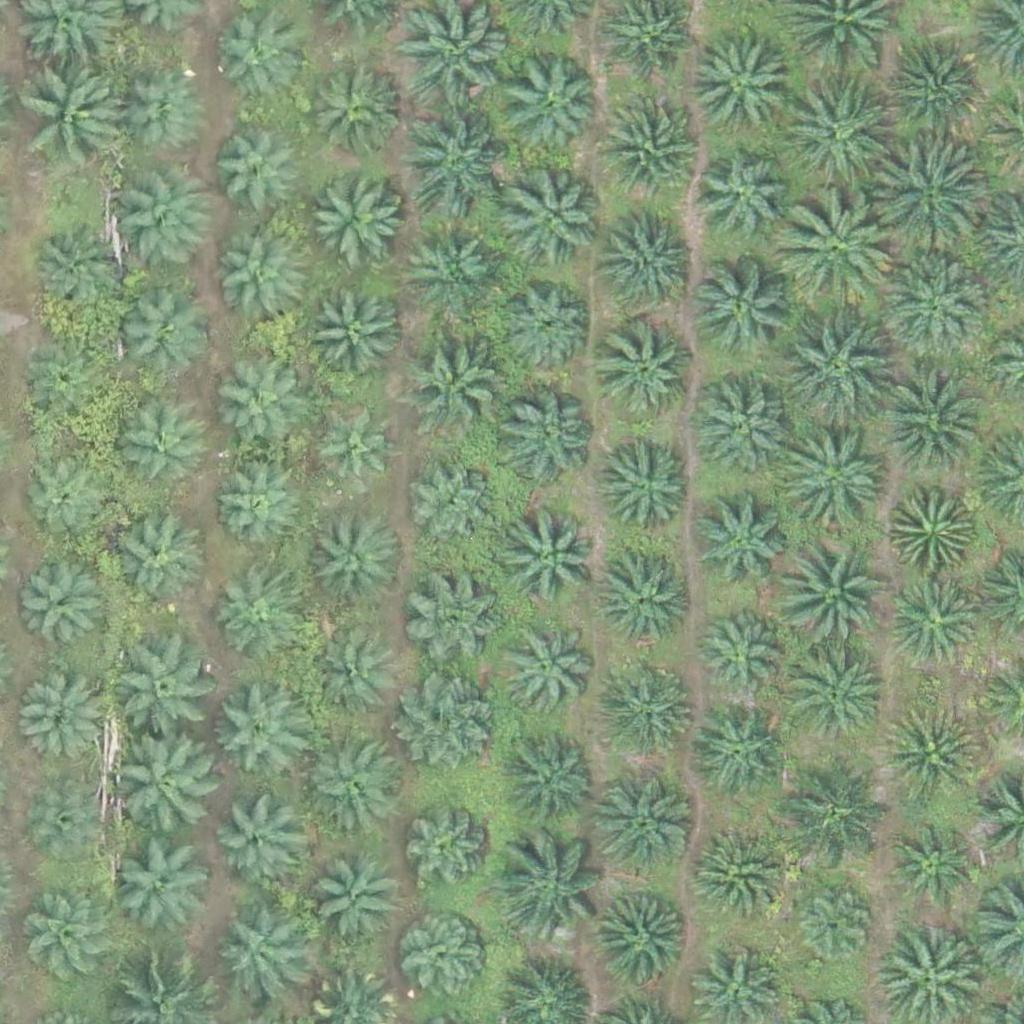Kelapa_Sawit: (107, 731, 220, 845), (777, 79, 890, 193), (497, 835, 610, 948), (782, 751, 895, 864), (782, 426, 895, 539), (781, 310, 894, 423), (882, 247, 994, 361), (395, 106, 507, 219), (781, 640, 893, 753), (776, 530, 888, 643), (779, 193, 891, 306), (869, 141, 981, 254), (874, 362, 986, 475), (685, 825, 785, 926), (119, 836, 219, 937), (24, 70, 124, 171), (31, 218, 131, 319), (104, 514, 204, 615), (119, 639, 219, 740), (209, 351, 309, 452), (303, 734, 403, 835), (304, 285, 404, 386), (306, 166, 406, 267), (302, 57, 402, 158), (401, 218, 501, 319), (404, 329, 504, 430), (403, 567, 503, 668), (401, 671, 501, 772), (498, 52, 598, 153), (504, 506, 604, 607), (497, 621, 597, 722), (501, 730, 601, 831), (595, 773, 695, 874), (594, 549, 694, 650), (596, 320, 696, 421), (597, 96, 697, 197), (694, 147, 794, 248), (692, 257, 792, 358), (687, 493, 787, 594), (690, 705, 790, 806), (880, 704, 980, 805), (592, 892, 692, 992), (114, 172, 214, 272), (210, 677, 310, 777), (503, 171, 603, 271), (494, 388, 594, 488), (602, 660, 702, 760), (597, 436, 697, 536), (604, 207, 704, 307), (688, 38, 788, 138), (691, 375, 791, 475), (884, 42, 984, 142), (793, 882, 881, 970), (212, 796, 300, 884), (213, 912, 301, 1000), (28, 896, 116, 984), (26, 342, 114, 430), (116, 69, 204, 157), (117, 290, 205, 378), (113, 402, 201, 490), (214, 127, 302, 215), (214, 234, 302, 322), (211, 467, 299, 555), (313, 511, 401, 599), (408, 461, 496, 549), (891, 574, 979, 662), (887, 825, 975, 913), (307, 404, 394, 493), (403, 810, 490, 898), (400, 919, 487, 1007), (309, 856, 396, 944), (22, 459, 109, 547), (21, 568, 108, 656), (18, 676, 105, 764), (210, 574, 297, 662), (308, 632, 395, 720), (503, 282, 590, 370), (697, 607, 784, 695), (889, 482, 976, 570), (207, 16, 294, 104), (32, 786, 107, 862)
